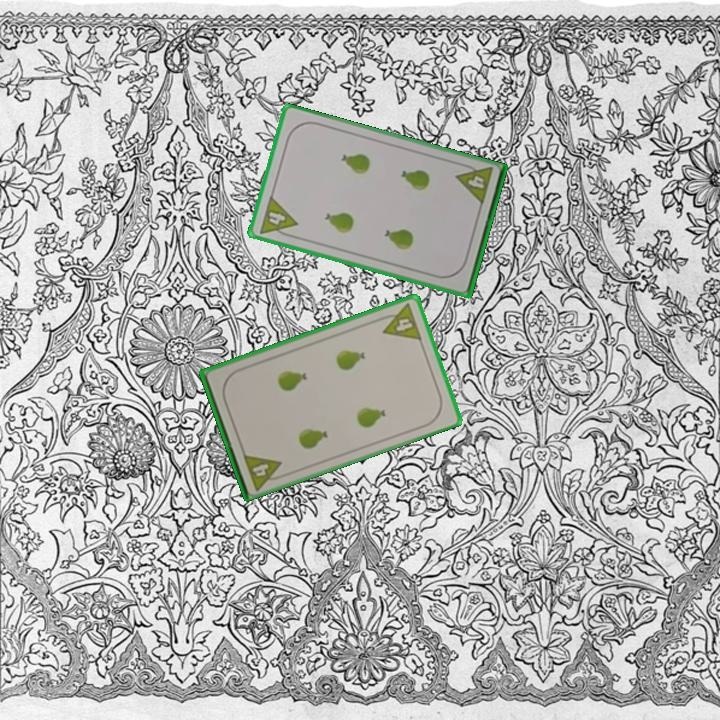4p: (255, 192, 300, 241), (239, 449, 288, 493), (453, 159, 496, 209), (375, 300, 425, 343)
